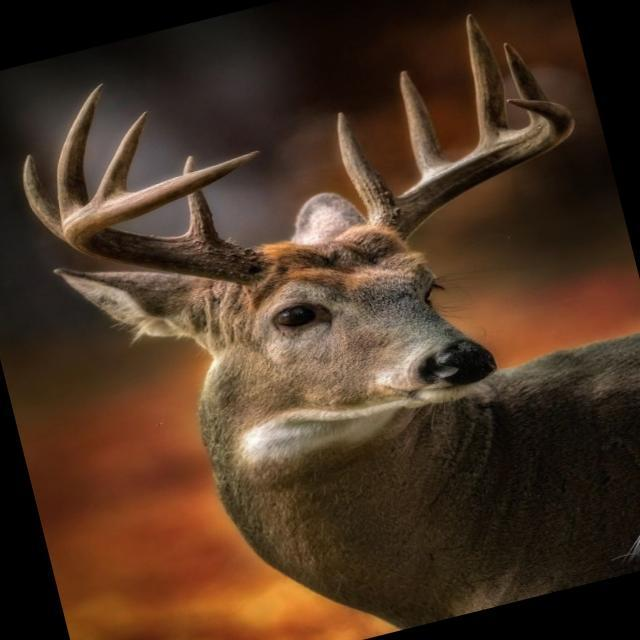L-F: (369, 98, 576, 240)
L-G1: (334, 110, 399, 219)
L-G2: (399, 70, 454, 182)
L-G3: (466, 11, 518, 151)
R-F: (62, 150, 261, 282)
R-G3: (56, 82, 106, 222)
R-G4: (90, 110, 150, 201)
